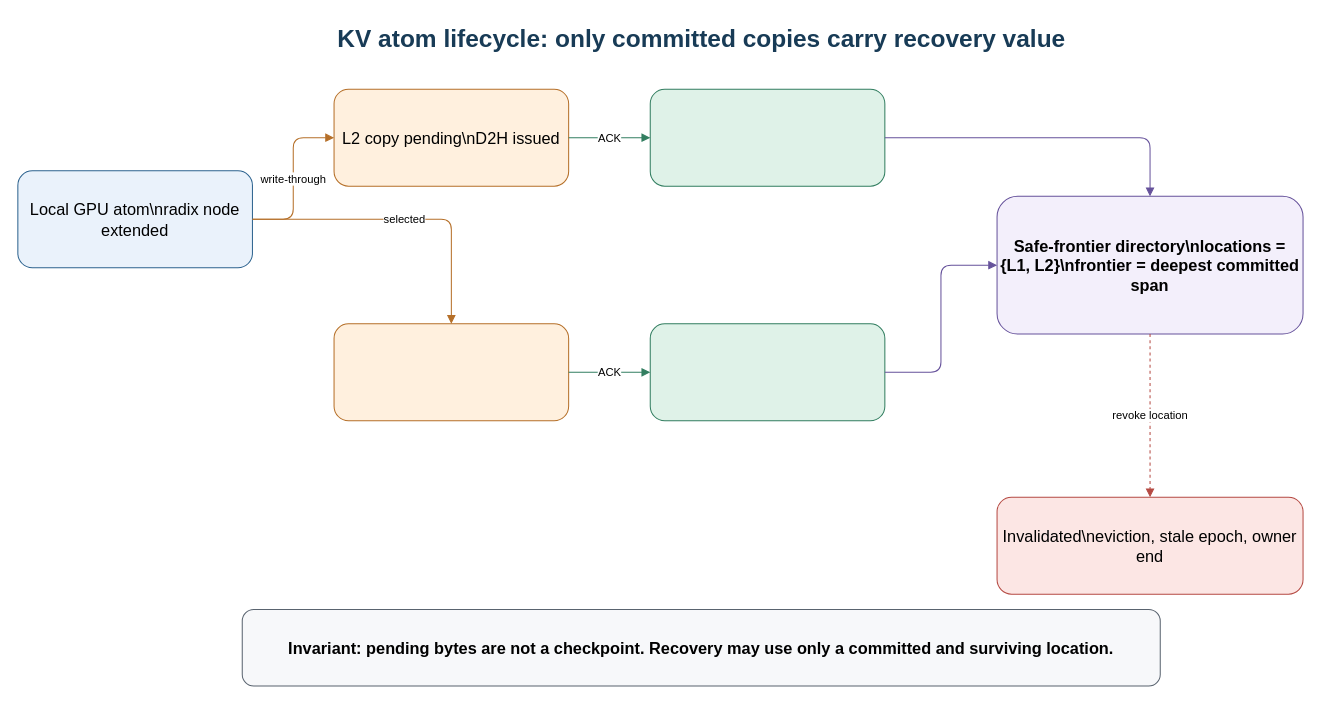
Image size: 1321x704. Some labels were removed from this diagram. Here are the shapes that lost their labels. From the top down, the centre of each, then its label:
At (x=767, y=137): "Host committed\nACK + version published".
At (x=451, y=372): "L1 copy pending\nP2P issued".
At (x=767, y=372): "Peer committed\nACK + anti-affinity valid".
